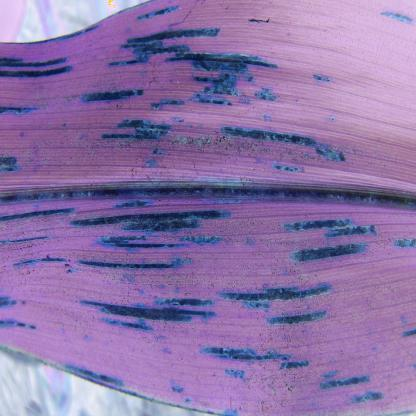Corn leaf blight: (2, 11, 416, 405)
